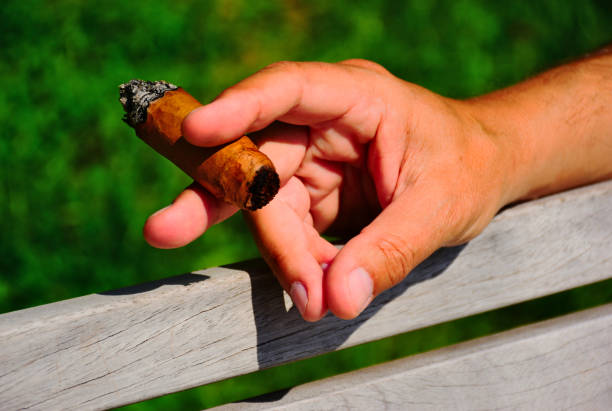cigarette: (111, 76, 280, 213)
